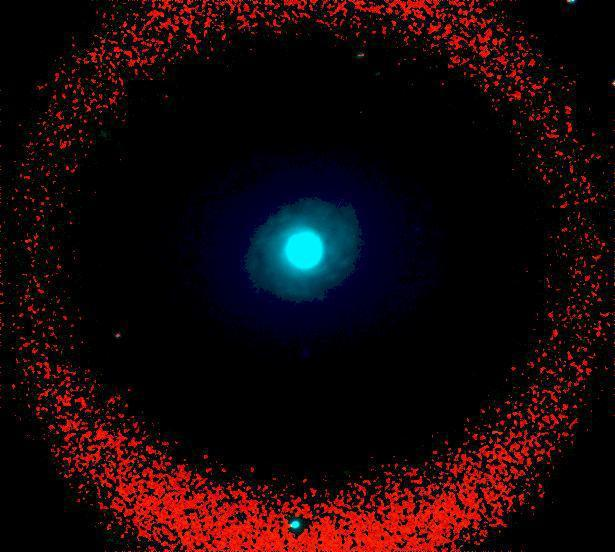star: (348, 95, 378, 125)
